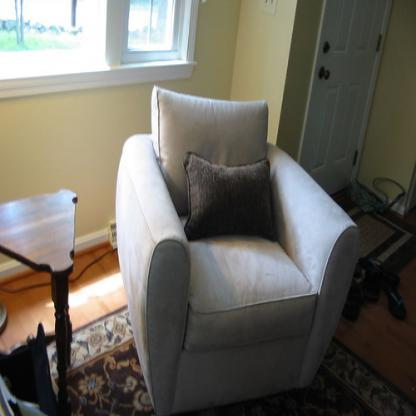chair: (112, 84, 362, 413)
